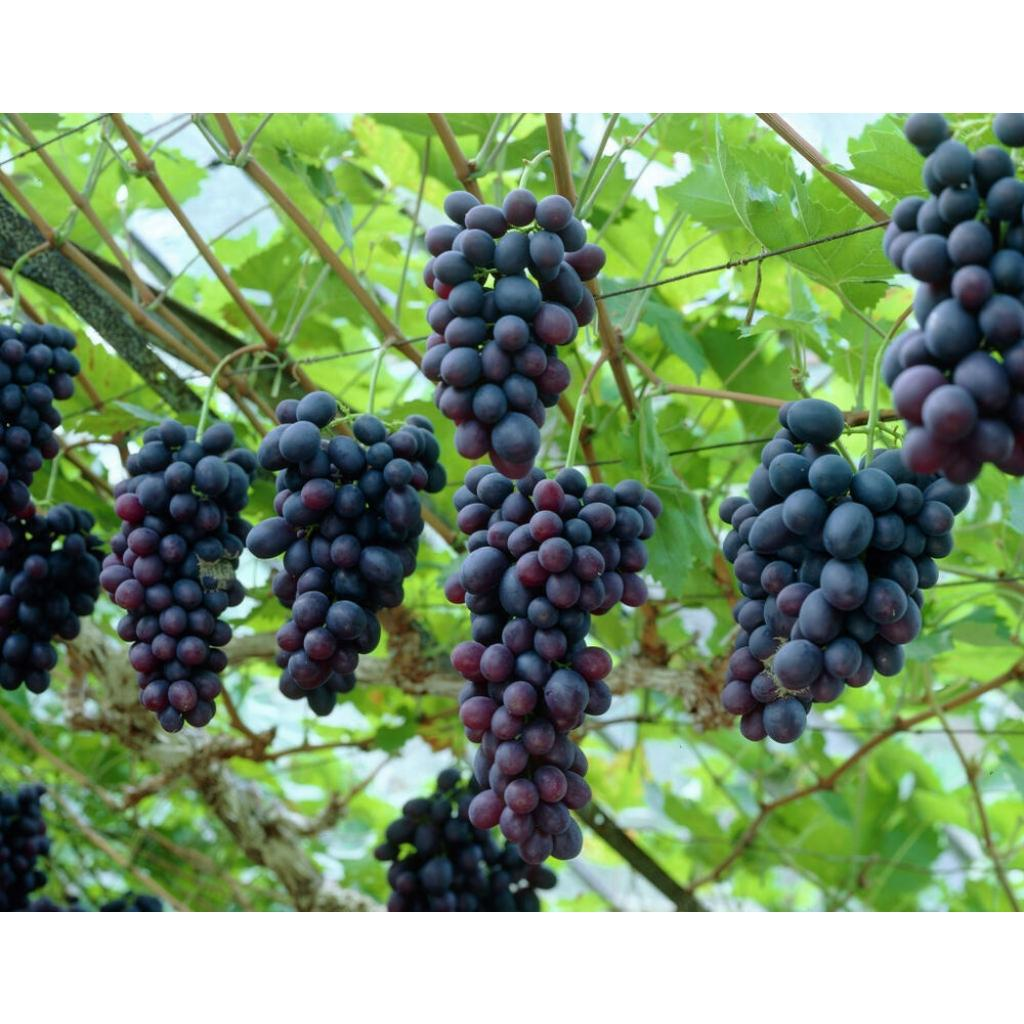grape: (443, 464, 659, 862), (719, 397, 967, 741), (246, 390, 444, 713), (420, 187, 603, 476), (881, 112, 1022, 481), (99, 417, 255, 729), (0, 321, 102, 691), (373, 766, 554, 909), (0, 498, 95, 690), (0, 785, 48, 909)
